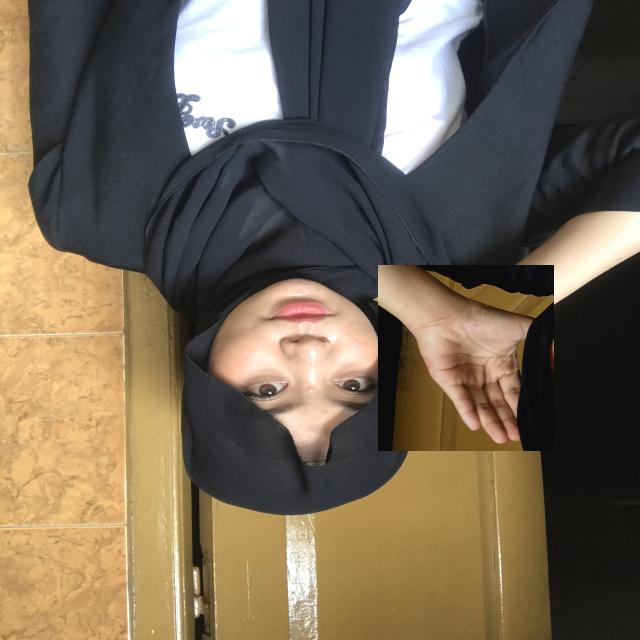mendengar: (378, 265, 554, 451)
